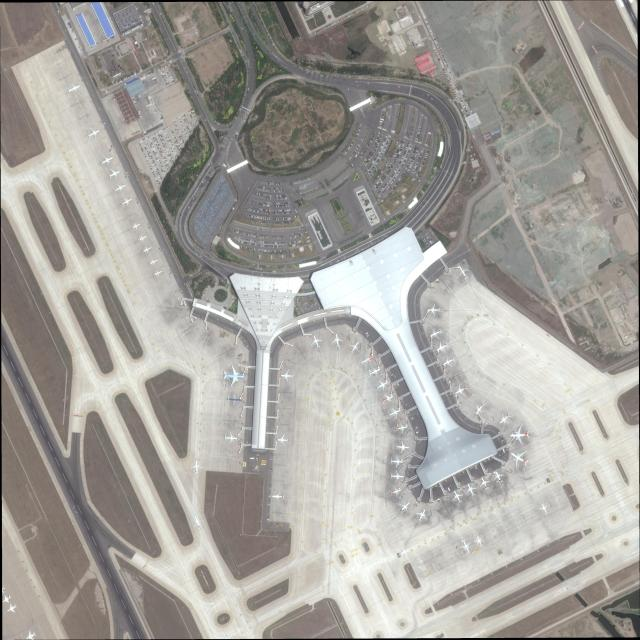plane: (507, 446, 532, 470), (219, 366, 246, 386), (508, 427, 531, 444), (472, 400, 490, 418), (455, 264, 472, 282), (413, 507, 430, 524), (396, 499, 413, 516), (346, 339, 362, 357), (453, 382, 470, 398), (497, 410, 513, 427), (491, 468, 506, 486), (451, 488, 466, 506), (359, 352, 375, 368), (99, 153, 115, 169), (386, 405, 402, 421), (427, 326, 443, 342), (441, 354, 457, 370), (190, 514, 205, 531), (458, 537, 473, 554), (464, 481, 479, 498), (374, 378, 390, 393), (112, 182, 128, 197), (86, 126, 102, 141), (478, 475, 492, 492), (309, 335, 324, 350), (107, 167, 122, 182), (435, 340, 450, 355), (379, 393, 395, 407), (330, 332, 344, 348), (67, 81, 81, 97), (223, 430, 238, 444), (226, 393, 242, 406), (537, 499, 550, 515), (388, 471, 404, 484), (119, 195, 133, 209), (390, 454, 404, 468), (367, 366, 381, 379), (191, 459, 202, 475), (129, 220, 142, 233), (6, 602, 19, 615), (389, 486, 402, 499), (276, 435, 290, 447), (473, 533, 485, 547), (427, 304, 441, 316), (395, 442, 410, 453), (147, 256, 160, 268), (24, 629, 38, 640), (394, 423, 409, 433), (141, 245, 154, 256), (2, 593, 13, 606), (272, 491, 286, 501), (281, 371, 293, 382), (136, 233, 148, 244), (152, 268, 163, 279), (2, 585, 7, 594)
